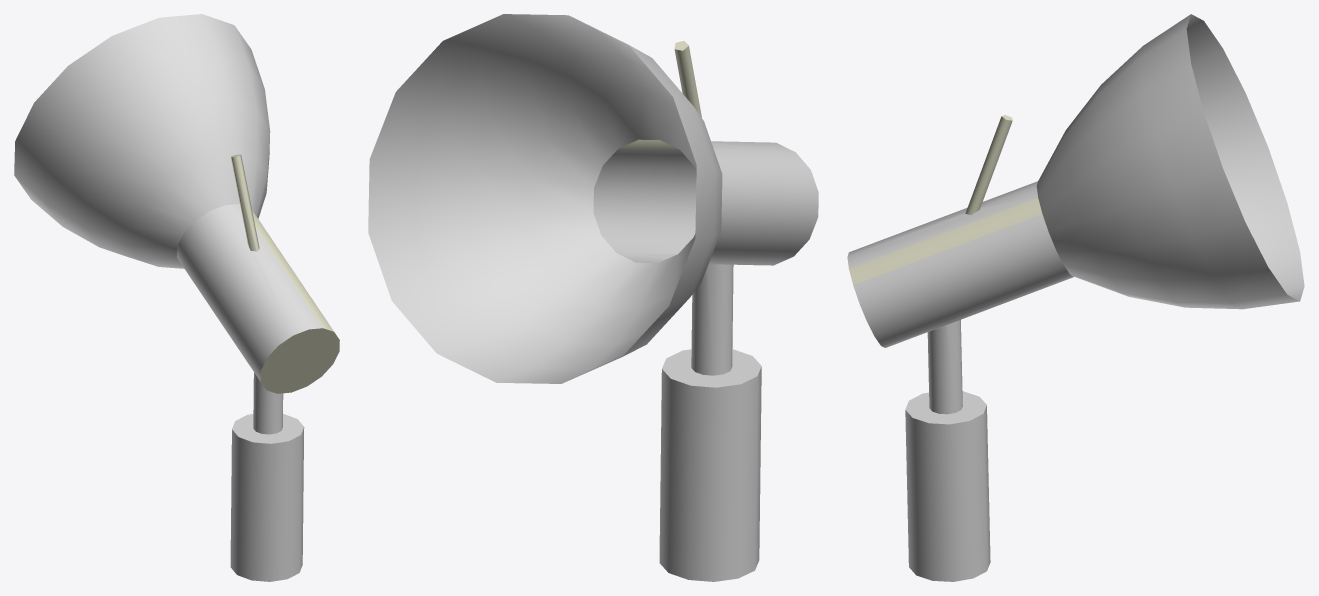
File: spotlight.obj
3 renders of one model, left to right at view 1: azimuth 30°, elevation 25°; view 2: azimuth 150°, elevation 25°; view 3: azimuth 270°, elevation 25°, orthographic. The views are drawn at different scales.
Visible parts, largest first — view 1: Mesh1 Model; view 2: Mesh1 Model; view 3: Mesh1 Model.
Part boxes in pixels (box(x1,y1,x2,y2)): Mesh1 Model: box(14, 14, 339, 581); Mesh1 Model: box(368, 14, 818, 581); Mesh1 Model: box(847, 14, 1304, 581).
Size of the model in its own units: 4.08 by 7.83 by 6.06.
